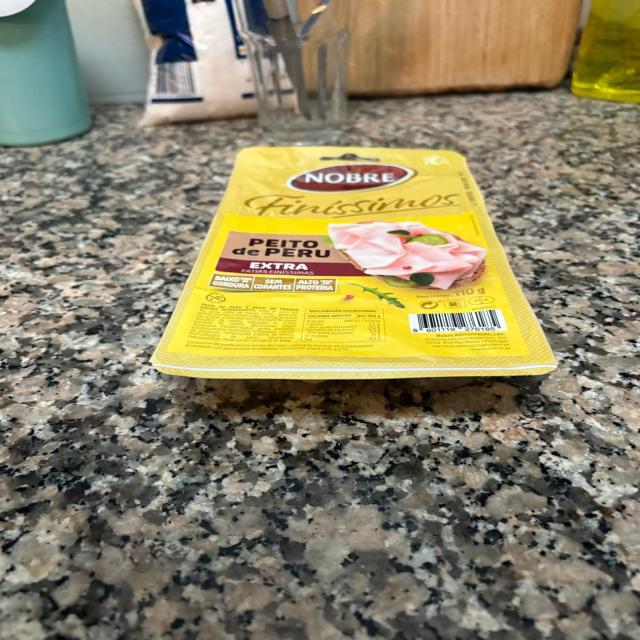good_package: (148, 145, 559, 379)
